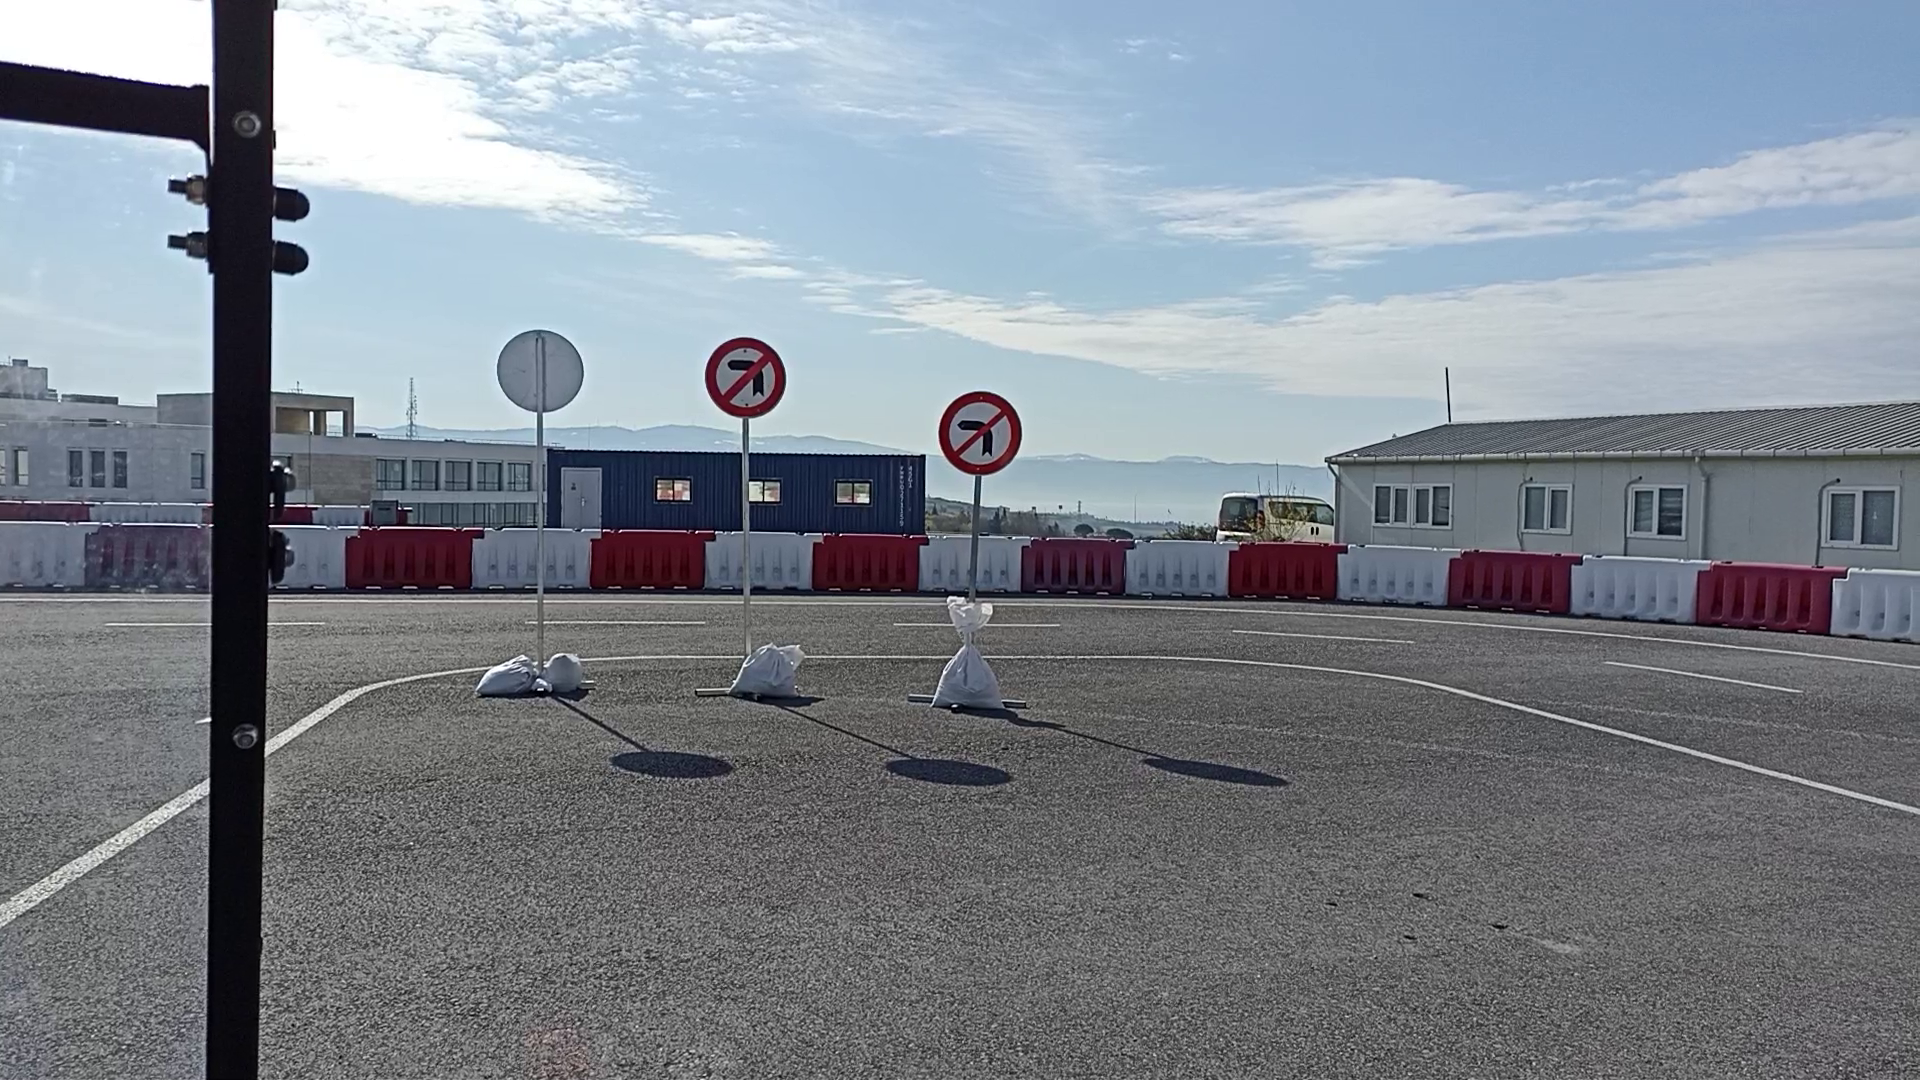noleft: (935, 388, 1026, 477), (702, 334, 789, 419)
